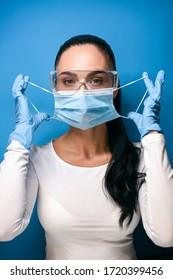gloves: (7, 74, 50, 150), (128, 70, 166, 135)
